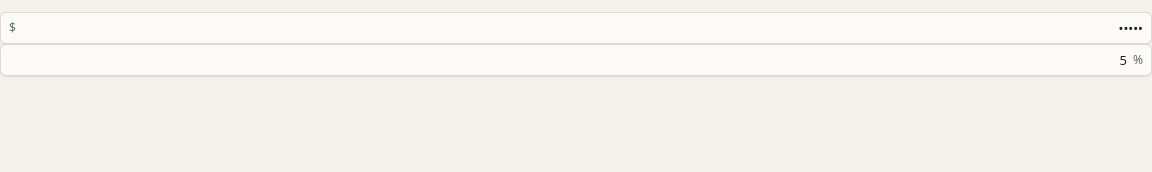
money inputs › shows the mask until focused, the real value while editing, and the mask again after
Later steps or results of the test are not shown.
Expected: the field named "Rate" holds "5", [9,45,1127,75]
Focus the field named "Balance": (582, 28) [22,13,1143,43]
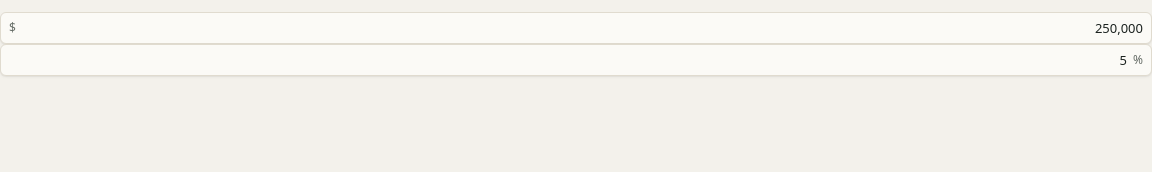
Now the field named "Balance" holds "250,000"
Replace the text in the field named "Balance" with "260000": (582, 28) [22,13,1143,43]
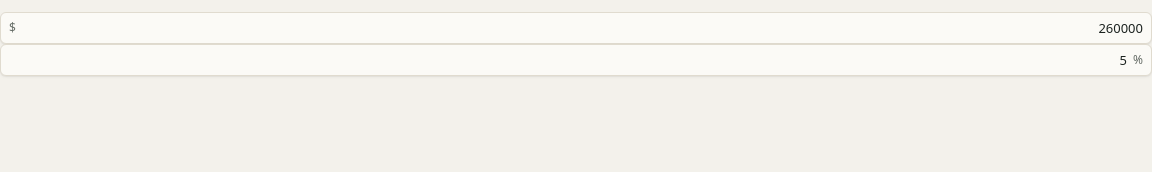
Leave the field named "Balance", box [22,13,1143,43]
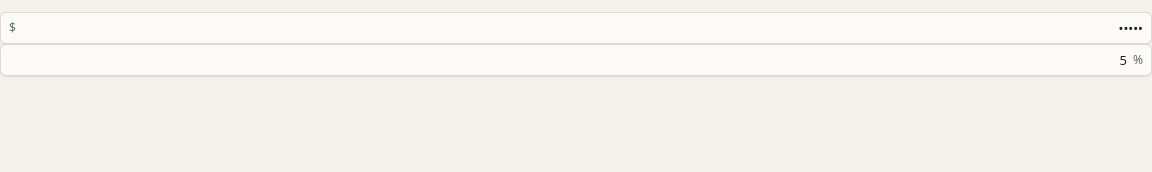
Now the field named "Balance" holds "•••••", box [22,13,1143,43]
